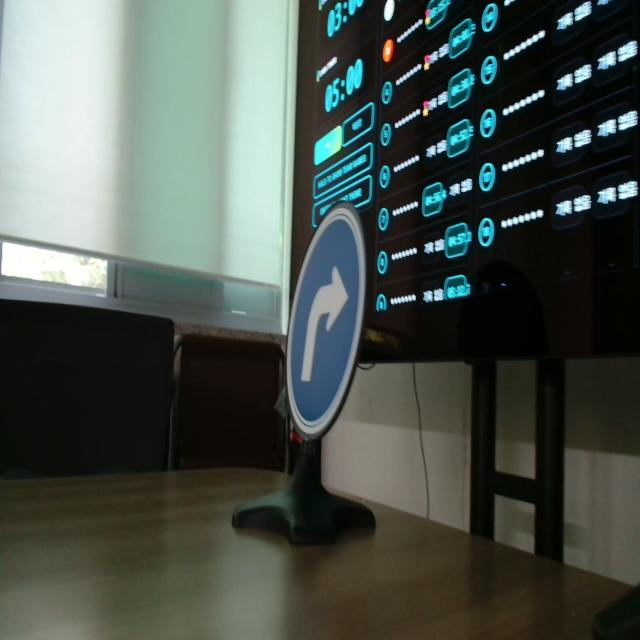right_dierection: (282, 198, 369, 439)
